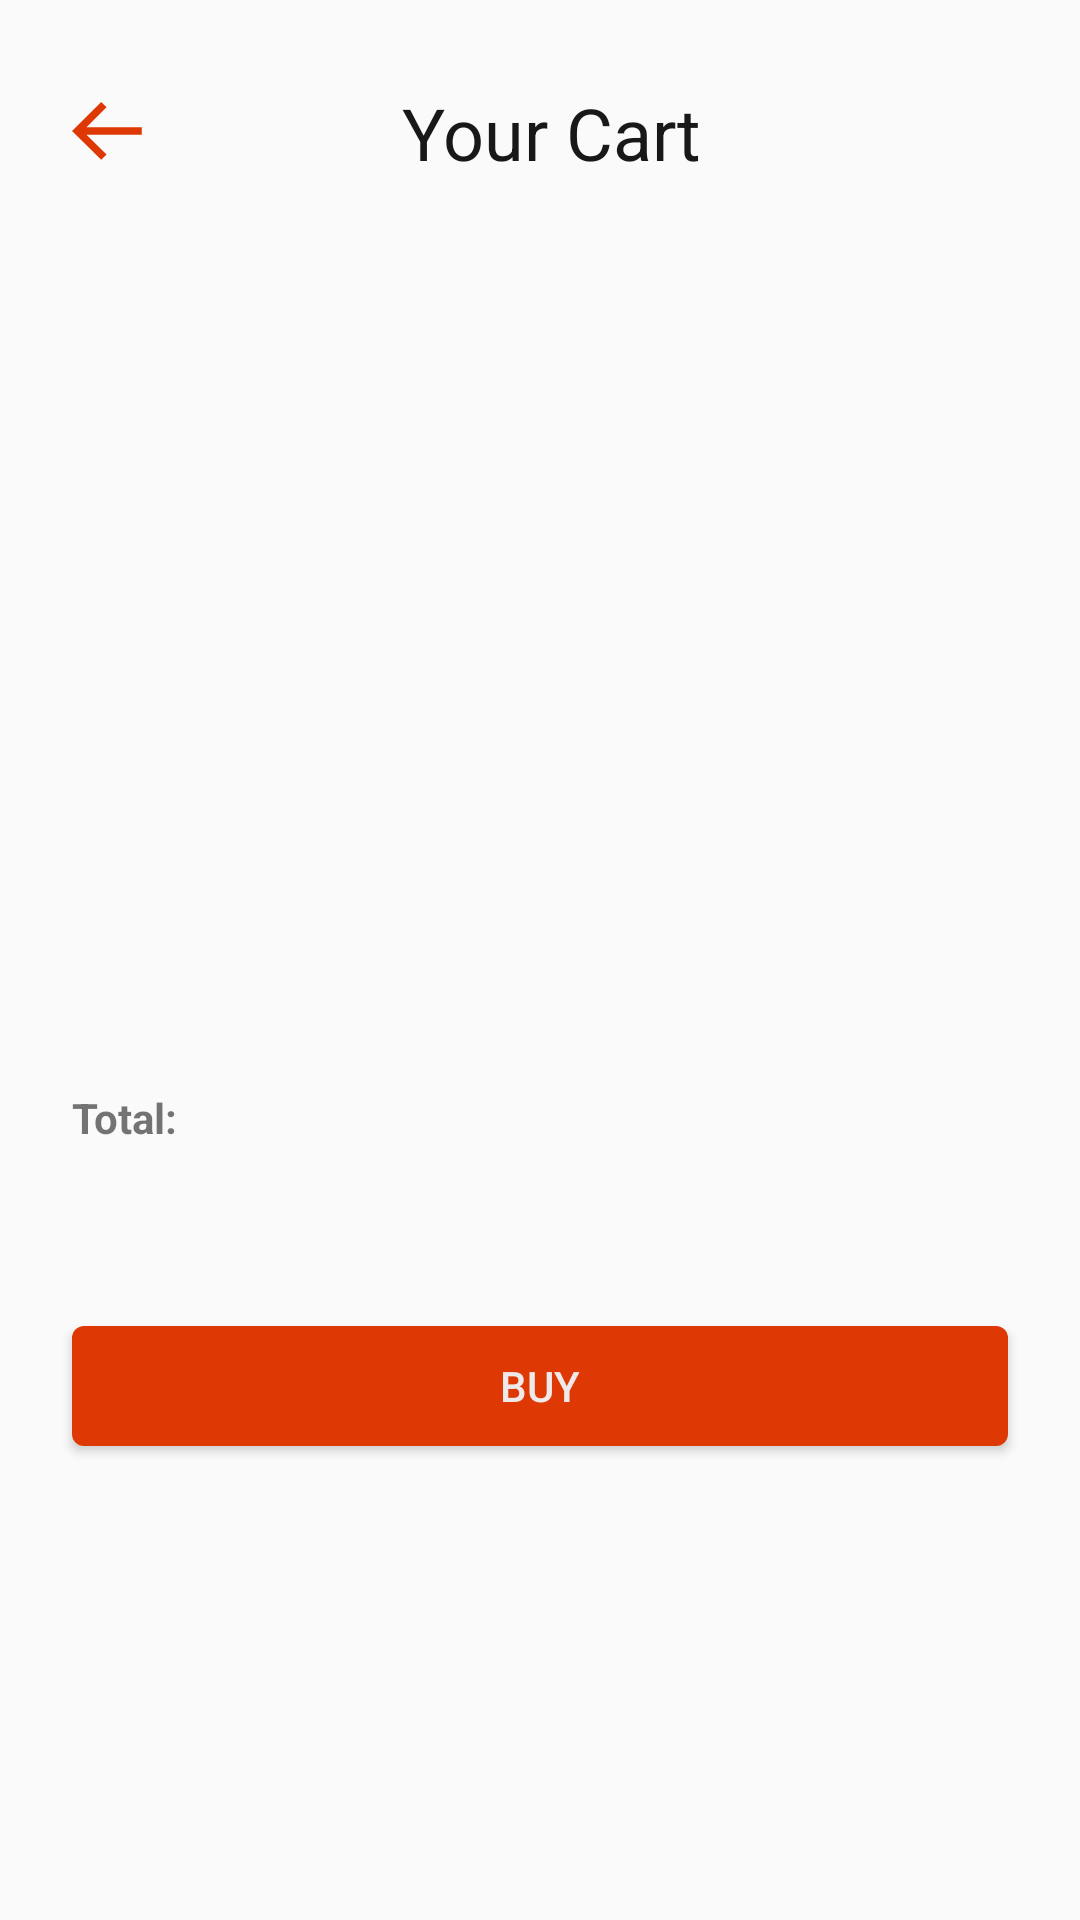

Named icons in this screenshot (1080w x 1920h) and their bounding boxes, (x1, y1, x2, y2):
back: (72, 102, 142, 160)
